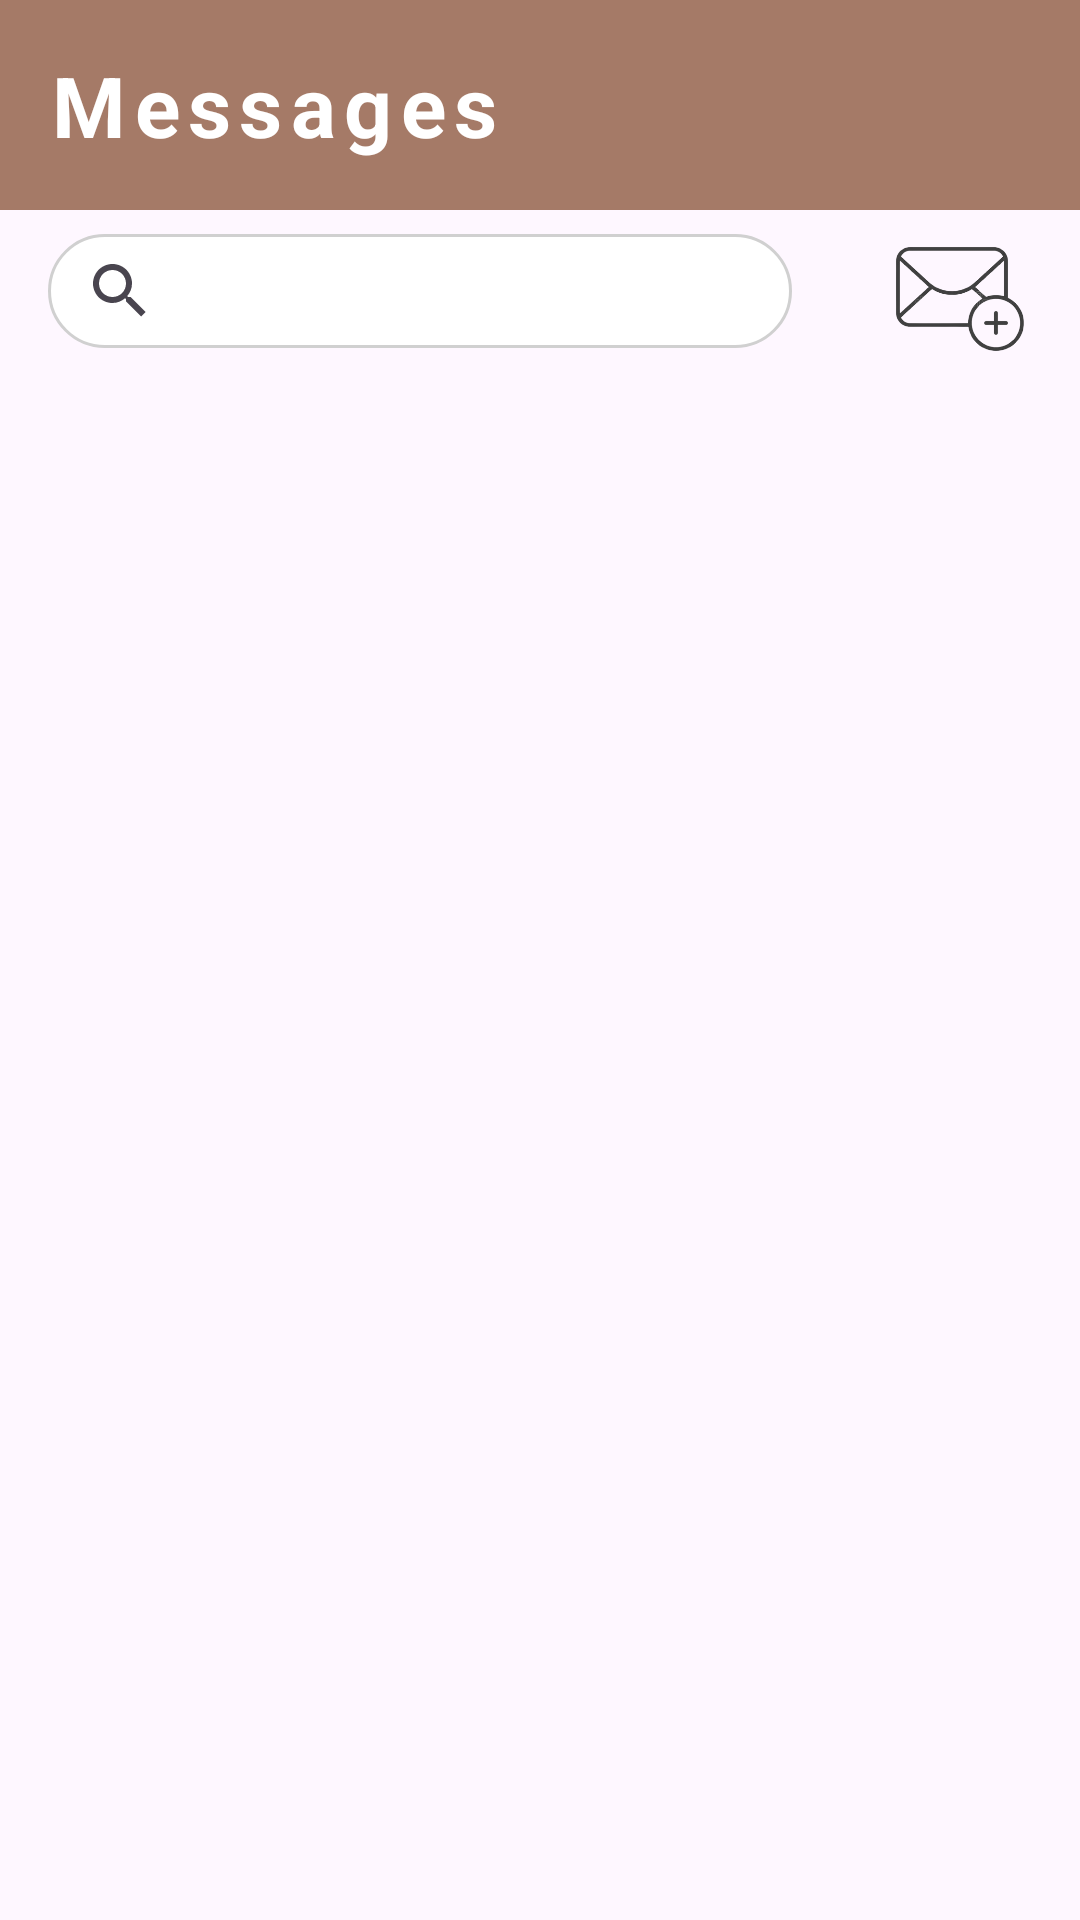

Icons on this 1080w x 1920h Android screen, each with its box as [x1,y1,x2,y2]:
New Message: [840,164,1080,351]
